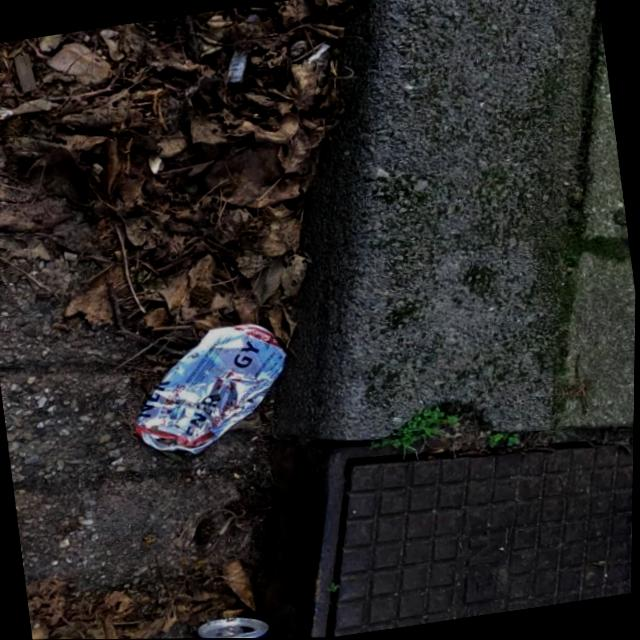Can-Metal: (117, 313, 303, 466), (182, 606, 279, 639)
